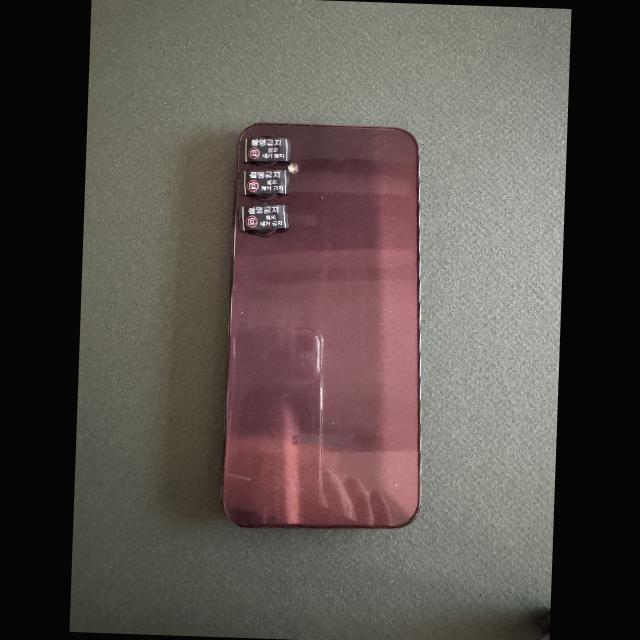lens: (253, 192, 276, 199), (254, 229, 276, 235)
phone: (222, 123, 420, 528)
sticker: (238, 204, 288, 230), (241, 169, 289, 195), (241, 137, 290, 162)
